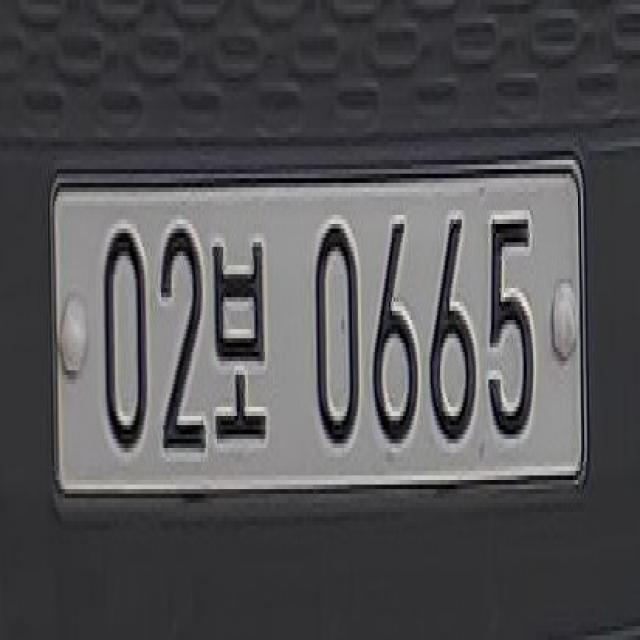0: (98, 212, 154, 474), (312, 209, 364, 473)
2: (160, 218, 210, 476)
5: (488, 202, 546, 446)
6: (424, 198, 485, 466), (371, 198, 422, 463)
bo: (210, 214, 272, 464)
license_plate: (36, 154, 598, 516)
